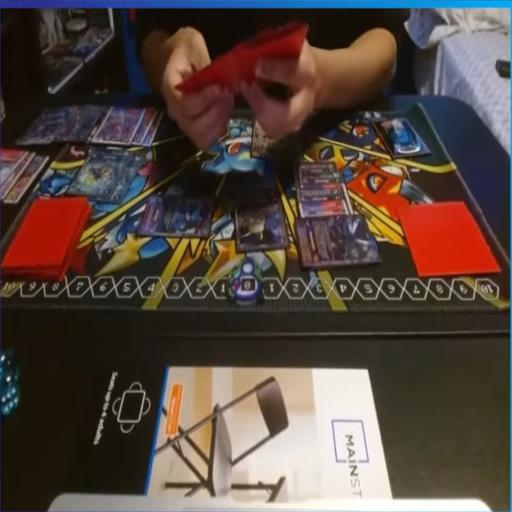card: (296, 209, 380, 278), (228, 184, 287, 253), (135, 198, 215, 240), (66, 147, 128, 197), (22, 100, 78, 147), (94, 96, 146, 145), (6, 154, 46, 208), (251, 116, 301, 158), (111, 154, 144, 208), (0, 149, 32, 198), (296, 182, 350, 206), (78, 102, 103, 151), (132, 102, 157, 146), (61, 104, 85, 144), (145, 101, 166, 144), (301, 173, 342, 192), (297, 201, 352, 215), (296, 162, 340, 176)
